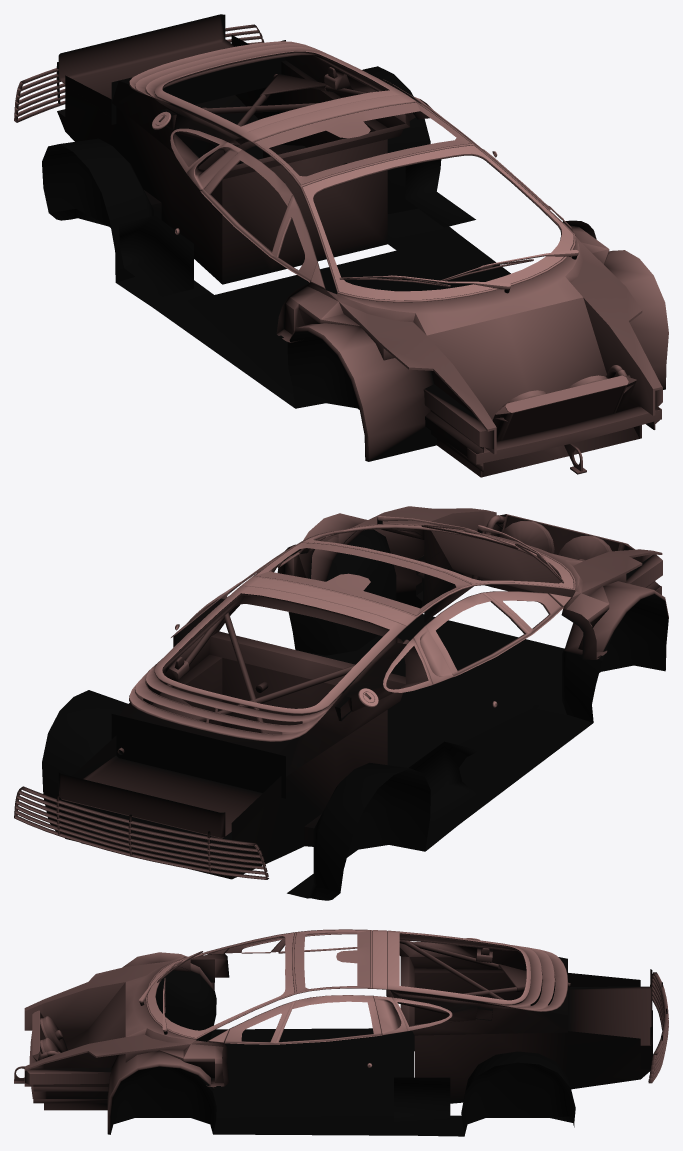
Rendered from MC_XJ220s_Chassis_Trim.fbx.
3 views of the same model, one above another, from view 1: azimuth 30°, elevation 25°; view 2: azimuth 150°, elevation 25°; view 3: azimuth 270°, elevation 25° (orthographic). The views are drawn at different scales.
Parts seen in each view (by area): view 1: MC_XJ220s_Chassis_Trim; view 2: MC_XJ220s_Chassis_Trim; view 3: MC_XJ220s_Chassis_Trim.
Boxes of the visible parts, <box> form: MC_XJ220s_Chassis_Trim: <box>14,14,668,477</box>; MC_XJ220s_Chassis_Trim: <box>14,506,668,900</box>; MC_XJ220s_Chassis_Trim: <box>14,929,668,1136</box>.
Size of the model in its own units: 201 by 105 by 488.
